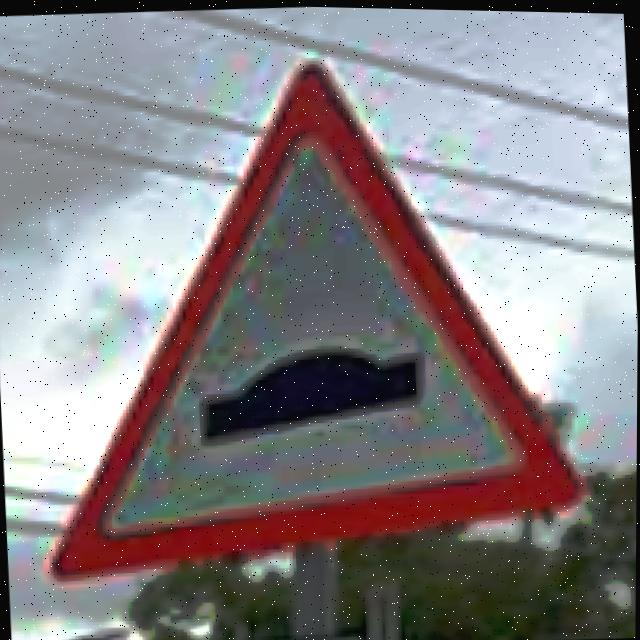hump: (54, 67, 584, 578)
